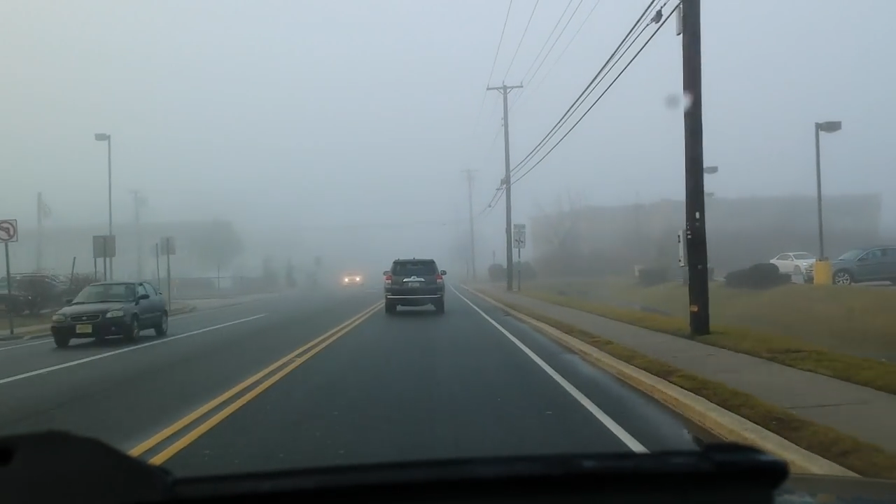car: (47, 278, 171, 347), (382, 256, 448, 315), (819, 242, 896, 286), (766, 249, 826, 278), (340, 270, 365, 287)
